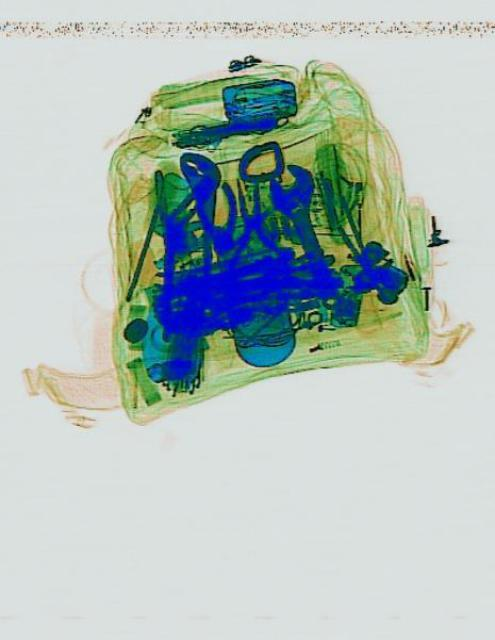Wrench: (259, 154, 357, 318)
